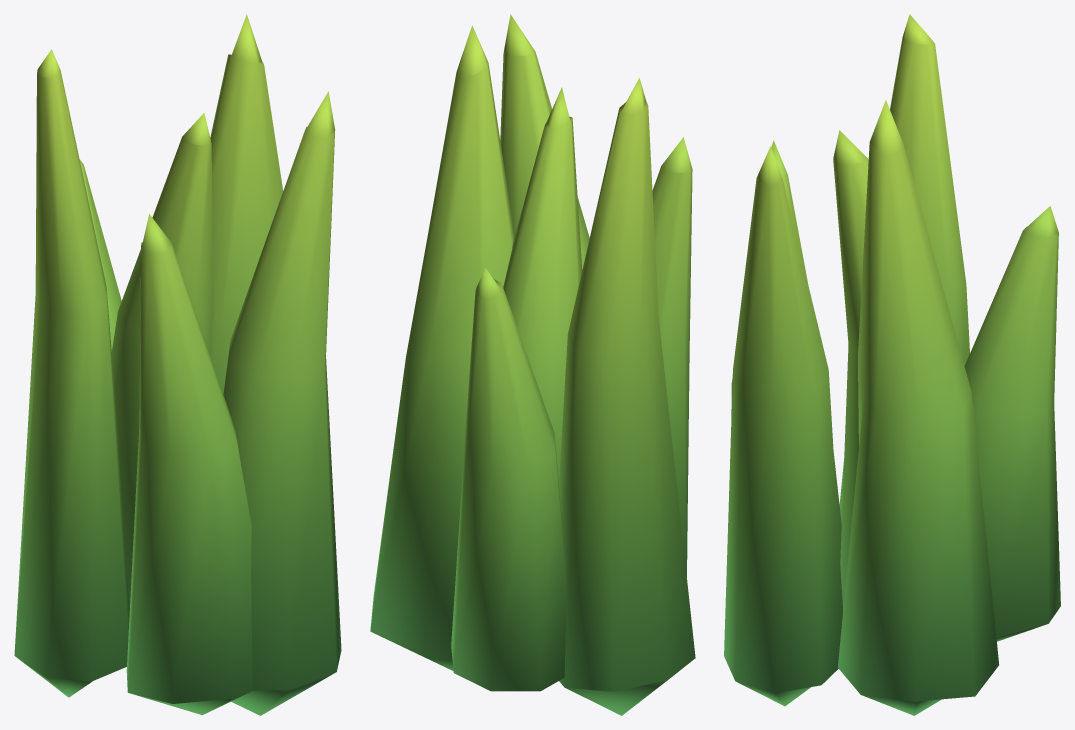
The model's file is grass02.FBX.
The picture shows the model from 3 angles, left to right: view 1: azimuth 30°, elevation 25°; view 2: azimuth 150°, elevation 25°; view 3: azimuth 270°, elevation 25°; orthographic projection. The views are drawn at different scales.
Visible parts, largest first — view 1: obj_22; view 2: obj_22; view 3: obj_22.
Boxes of the visible parts, <box> form: obj_22: <box>14,14,341,715</box>; obj_22: <box>370,14,695,715</box>; obj_22: <box>724,14,1060,715</box>.
Size of the model in its own units: 14.12 by 29.42 by 14.37.
